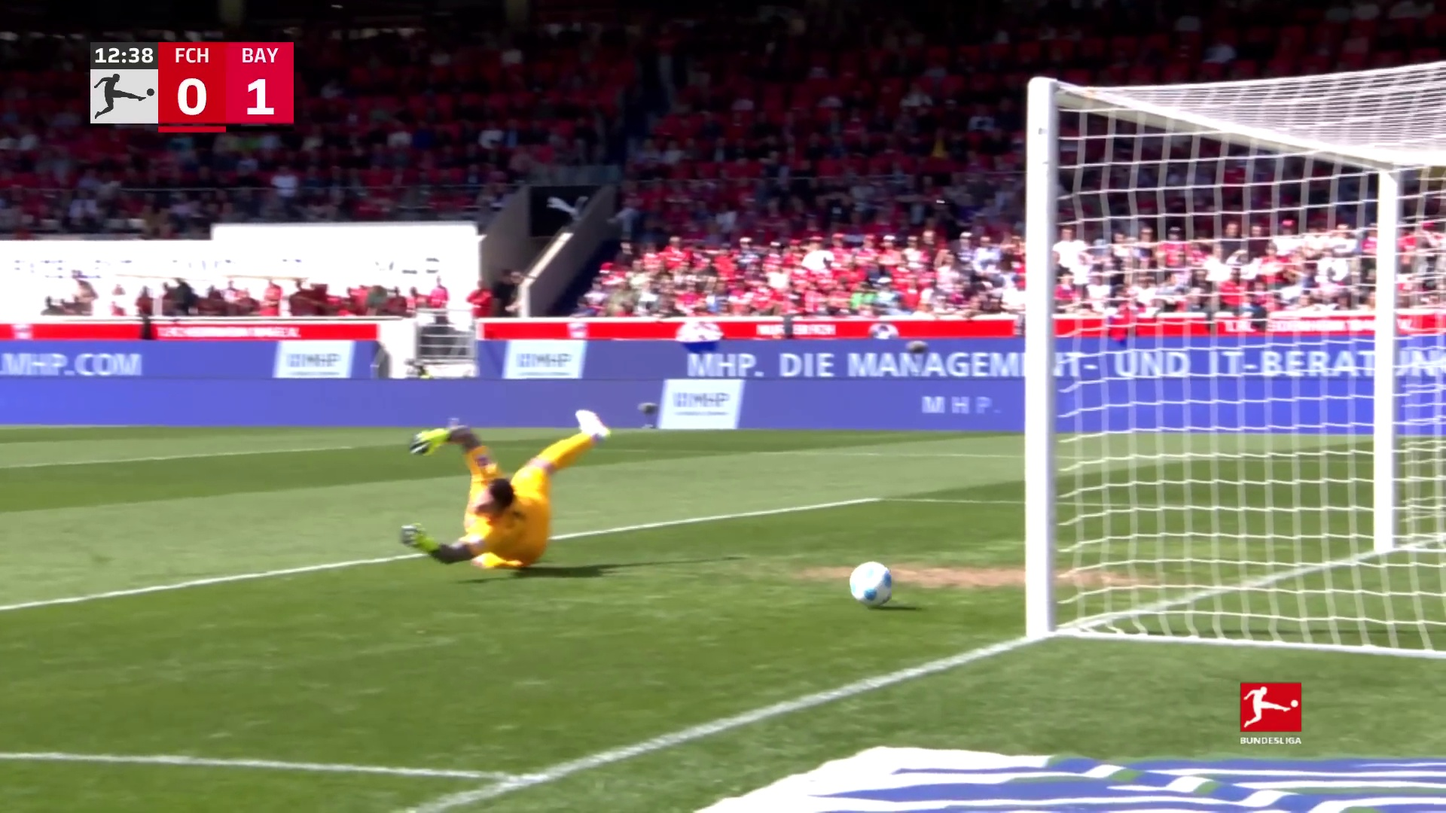ball: (846, 559, 895, 609)
player: (399, 409, 614, 572)
